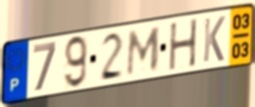2: (96, 32, 126, 83)
7: (31, 40, 59, 95)
9: (63, 34, 89, 90)
H: (168, 17, 200, 73)
K: (201, 14, 227, 65)
M: (125, 26, 163, 79)
